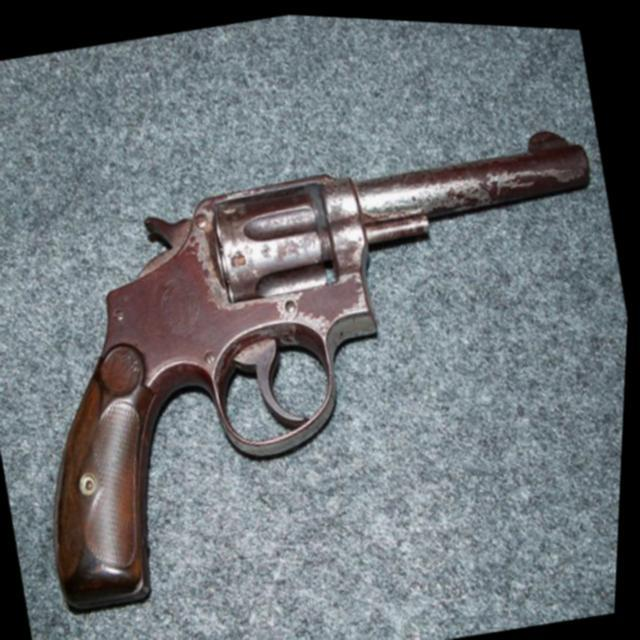weapon: (0, 91, 637, 636)
